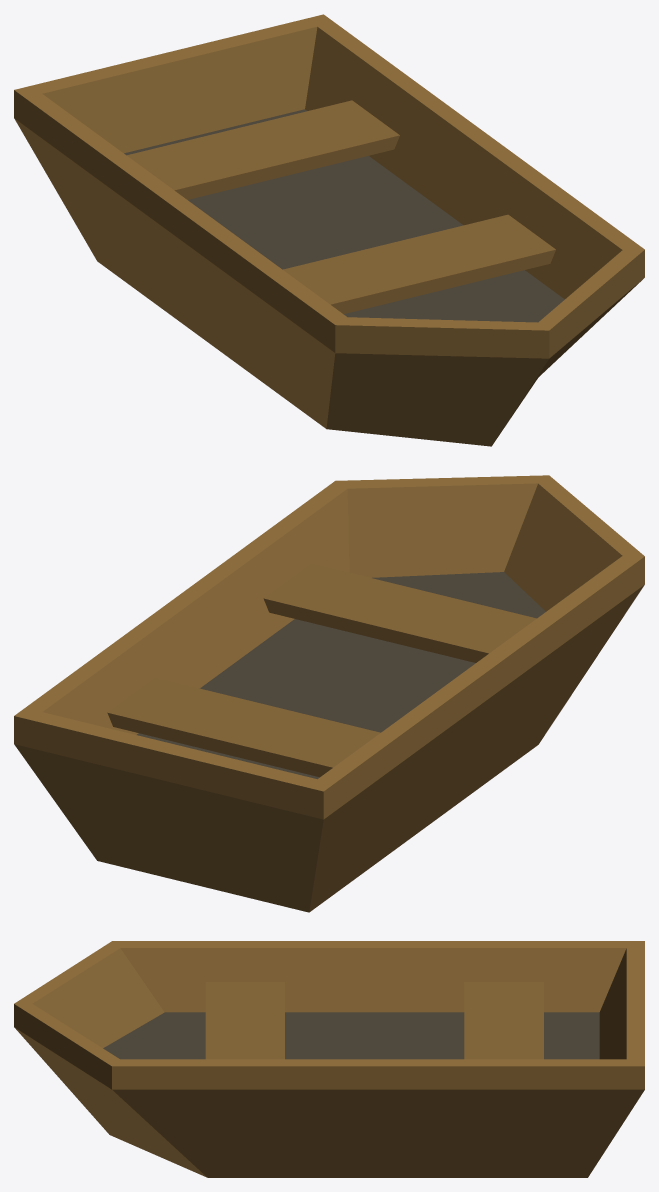
File: Boat.gltf
3 views of the same model, one above another, from view 1: azimuth 30°, elevation 25°; view 2: azimuth 150°, elevation 25°; view 3: azimuth 270°, elevation 25° (orthographic). The views are drawn at different scales.
Parts seen in each view (by area): view 1: SF_Veh_Boat_01; view 2: SF_Veh_Boat_01; view 3: SF_Veh_Boat_01.
Boxes of the visible parts, <box> form: SF_Veh_Boat_01: <box>14,14,644,446</box>; SF_Veh_Boat_01: <box>14,475,644,912</box>; SF_Veh_Boat_01: <box>14,941,644,1177</box>.
Size of the model in its own units: 0.0231 by 0.0113 by 0.0491.
1 material, 1 textured.
